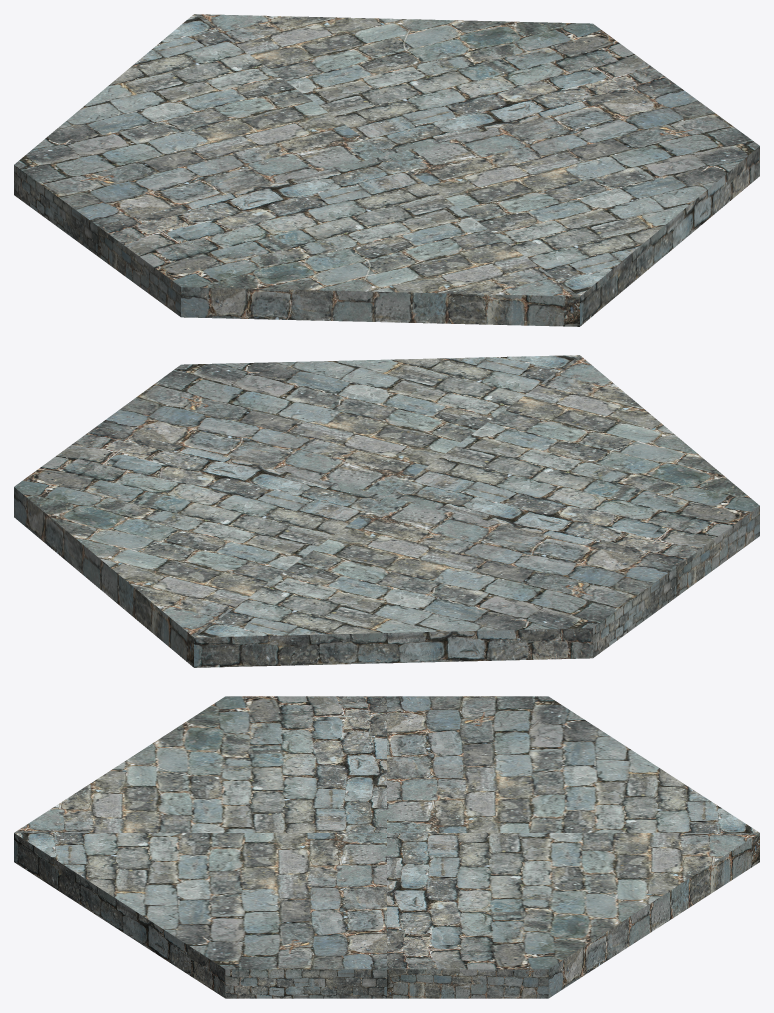
The model's file is Hexagon.fbx.
3 renders of one model, top to bottom at view 1: azimuth 30°, elevation 25°; view 2: azimuth 150°, elevation 25°; view 3: azimuth 270°, elevation 25°, orthographic. The views are drawn at different scales.
Visible parts, largest first — view 1: Plane; view 2: Plane; view 3: Plane.
Part boxes in pixels (bbox=[...]): Plane: bbox=[14, 14, 759, 326]; Plane: bbox=[14, 355, 759, 667]; Plane: bbox=[14, 696, 759, 998].
Size of the model in its own units: 2 by 0.1 by 2.31.
1 material, 1 textured.
